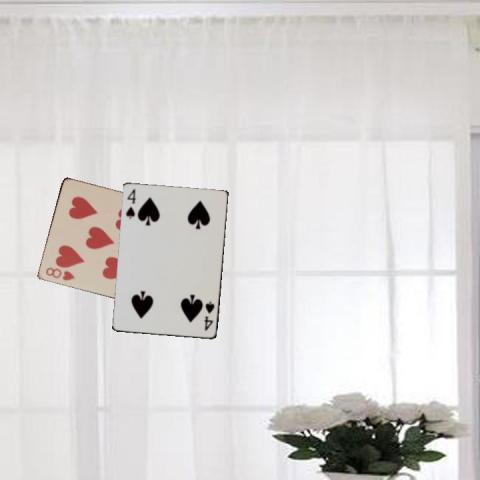4s: (123, 186, 138, 220), (201, 299, 216, 332)
8h: (43, 265, 76, 282)
